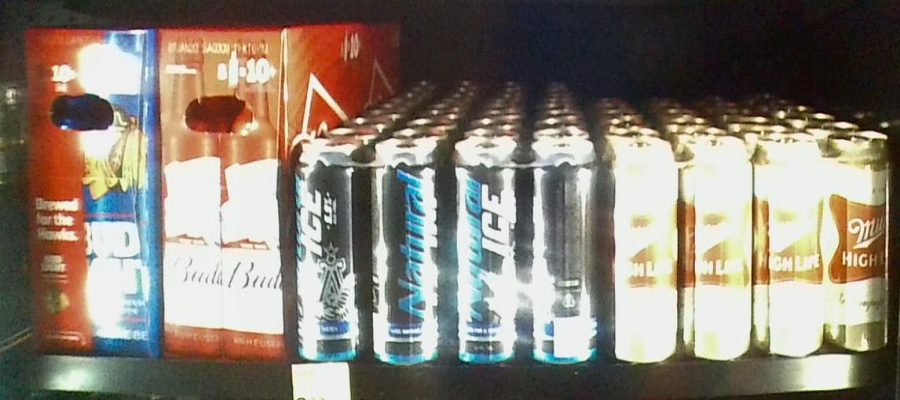bottle: (26, 24, 162, 358), (158, 27, 295, 358), (597, 141, 755, 370), (298, 142, 446, 368), (451, 144, 598, 363), (758, 142, 900, 360)
